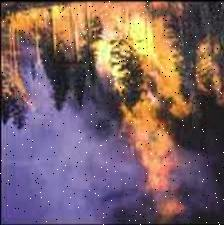fire: (128, 0, 224, 221), (2, 0, 128, 106)
